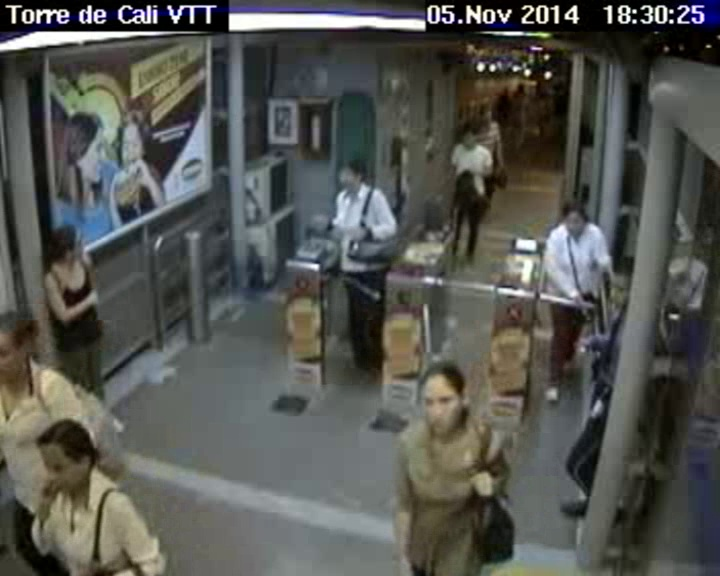person: (35, 416, 104, 502), (399, 360, 477, 432), (1, 315, 50, 382), (36, 223, 93, 268), (599, 251, 639, 315), (559, 200, 592, 241), (335, 156, 369, 195), (460, 122, 482, 152), (473, 101, 496, 127)
